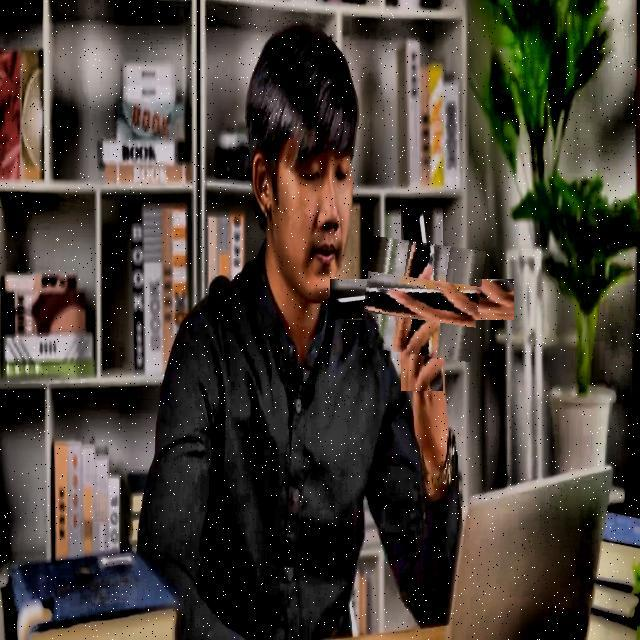Phone: (362, 240, 482, 358)
